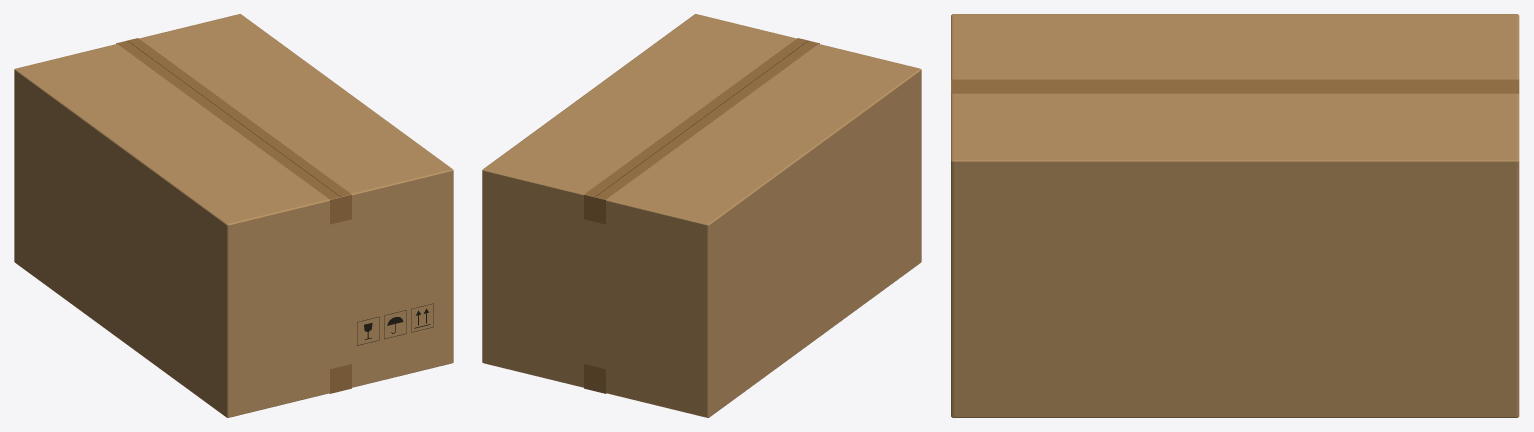
The picture shows the model from 3 angles, left to right: view 1: azimuth 30°, elevation 25°; view 2: azimuth 150°, elevation 25°; view 3: azimuth 270°, elevation 25°; orthographic projection. The views are drawn at different scales.
Visible parts, largest first — view 1: Главная коробка; view 2: Главная коробка; view 3: Главная коробка.
Boxes of the visible parts, x1=… form: Главная коробка: x1=14, y1=14, x2=453, y2=417; Главная коробка: x1=482, y1=14, x2=921, y2=417; Главная коробка: x1=951, y1=14, x2=1519, y2=417.
Size of the model in its own units: 0.628 by 0.5142 by 1.03.
